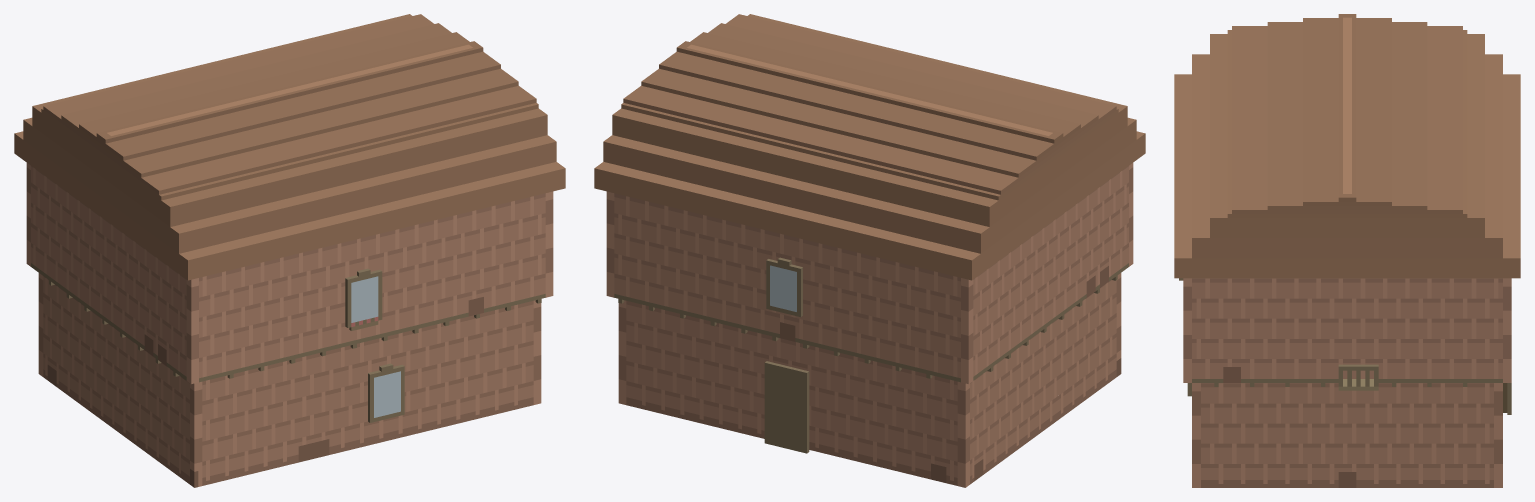
Rendered from casa_modesta_04.glb.
3 views of the same model, side by side, from view 1: azimuth 30°, elevation 25°; view 2: azimuth 150°, elevation 25°; view 3: azimuth 270°, elevation 25° (orthographic).
Parts seen in each view (by area): view 1: casa_modesta_04; view 2: casa_modesta_04; view 3: casa_modesta_04.
Boxes of the visible parts, box(x1,y1,x2,y2) form: casa_modesta_04: box(14, 14, 565, 487); casa_modesta_04: box(594, 14, 1145, 487); casa_modesta_04: box(1174, 14, 1520, 487).
Size of the model in its own units: 10 by 7.4 by 7.8.
